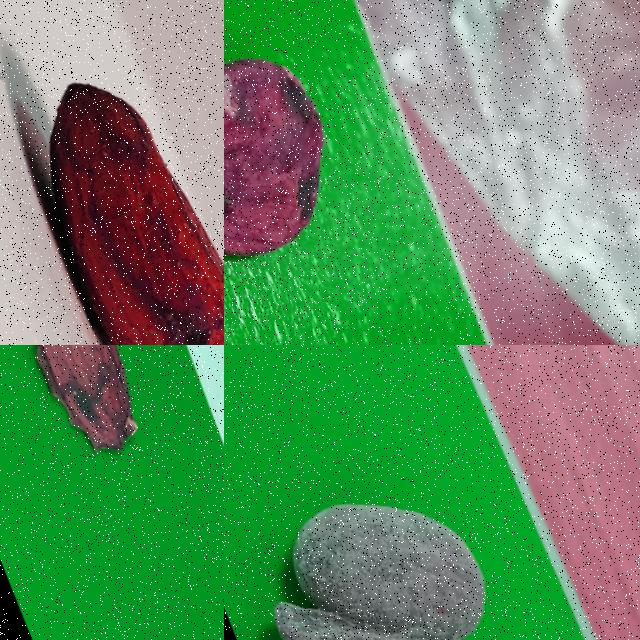Agglomerated_cocoabeans: (224, 363, 584, 639)
Fine_cocoabeans: (0, 0, 223, 344)
Flat_cocoabeans: (224, 0, 428, 344), (0, 345, 197, 547)
